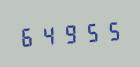five: (102, 17, 122, 43), (81, 19, 101, 44)
four: (39, 22, 59, 47)
nine: (60, 20, 80, 46)
six: (18, 23, 38, 49)
